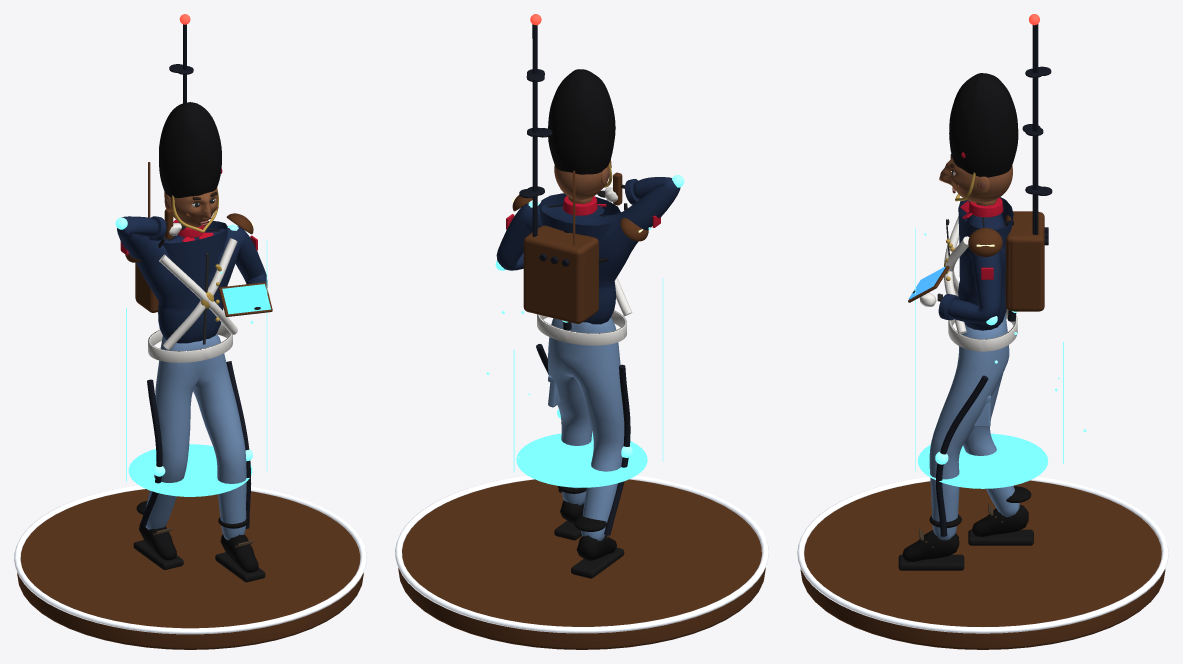
Rendered from signal_kbh.glb.
3 views of the same model, side by side, from view 1: azimuth 30°, elevation 25°; view 2: azimuth 150°, elevation 25°; view 3: azimuth 270°, elevation 25° (orthographic). The views are drawn at different scales.
Visible parts, largest first — view 1: fod_net, menneske_net, hoved_net, op1_net, op4.001_net, op4_net, vaaben_net, ned1_net, op3_net; view 2: fod_net, menneske_net, hoved_net, op1_net, op4.001_net, ned1_net, op4_net, op3_net; view 3: fod_net, menneske_net, hoved_net, op1_net, op4.001_net, ned1_net, op4_net, op3_net, vaaben_net.
Part boxes in pixels (x1=…): fod_net: x1=14, y1=485, x2=366, y2=649; menneske_net: x1=117, y1=14, x2=267, y2=582; hoved_net: x1=159, y1=102, x2=222, y2=232; op1_net: x1=135, y1=24, x2=237, y2=362; op4.001_net: x1=126, y1=240, x2=267, y2=496; op4_net: x1=115, y1=217, x2=252, y2=528; vaaben_net: x1=164, y1=208, x2=272, y2=316; ned1_net: x1=136, y1=24, x2=250, y2=546; op3_net: x1=125, y1=162, x2=253, y2=268; fod_net: x1=395, y1=475, x2=768, y2=649; menneske_net: x1=496, y1=14, x2=680, y2=578; hoved_net: x1=548, y1=69, x2=615, y2=200; op1_net: x1=523, y1=25, x2=632, y2=345; op4.001_net: x1=486, y1=227, x2=663, y2=487; ned1_net: x1=519, y1=24, x2=598, y2=322; op4_net: x1=495, y1=175, x2=684, y2=535; op3_net: x1=512, y1=170, x2=648, y2=245; fod_net: x1=797, y1=476, x2=1168, y2=649; menneske_net: x1=898, y1=14, x2=1039, y2=570; hoved_net: x1=939, y1=73, x2=1018, y2=202; op1_net: x1=937, y1=25, x2=1048, y2=351; op4.001_net: x1=915, y1=228, x2=1086, y2=488; ned1_net: x1=922, y1=24, x2=1052, y2=547; op4_net: x1=935, y1=220, x2=1017, y2=536; op3_net: x1=946, y1=228, x2=1002, y2=256; vaaben_net: x1=908, y1=265, x2=949, y2=302.
Size of the model in its own units: 1.94 by 3.27 by 1.94.
